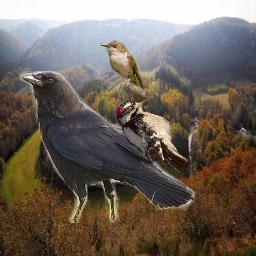Crow: (19, 71, 195, 223)
Cuckoo: (100, 40, 148, 109)
Woodpecker: (115, 99, 188, 175)
